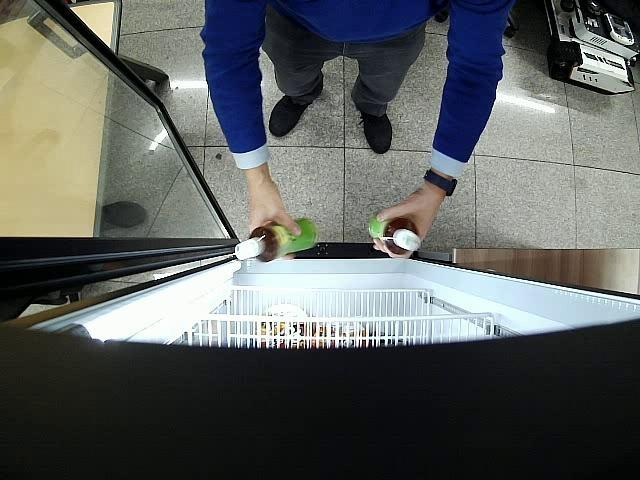19_17cha: (235, 218, 318, 264), (369, 215, 421, 255)
